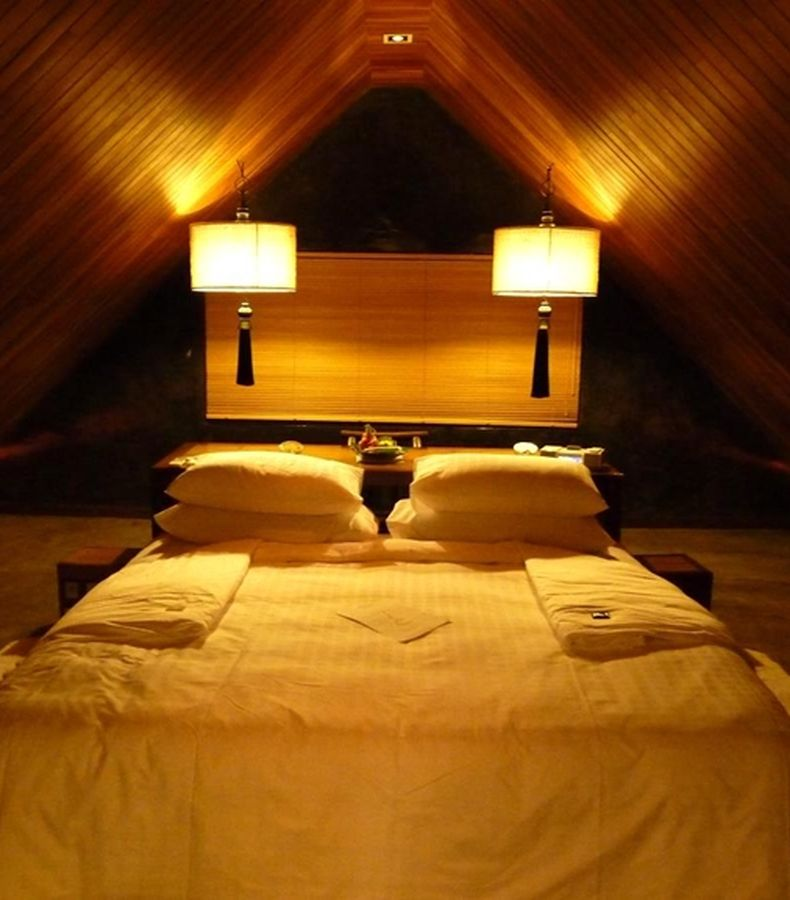lampu: (147, 145, 334, 419), (458, 170, 620, 421)
